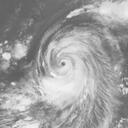cyclone: (37, 20, 103, 106)
